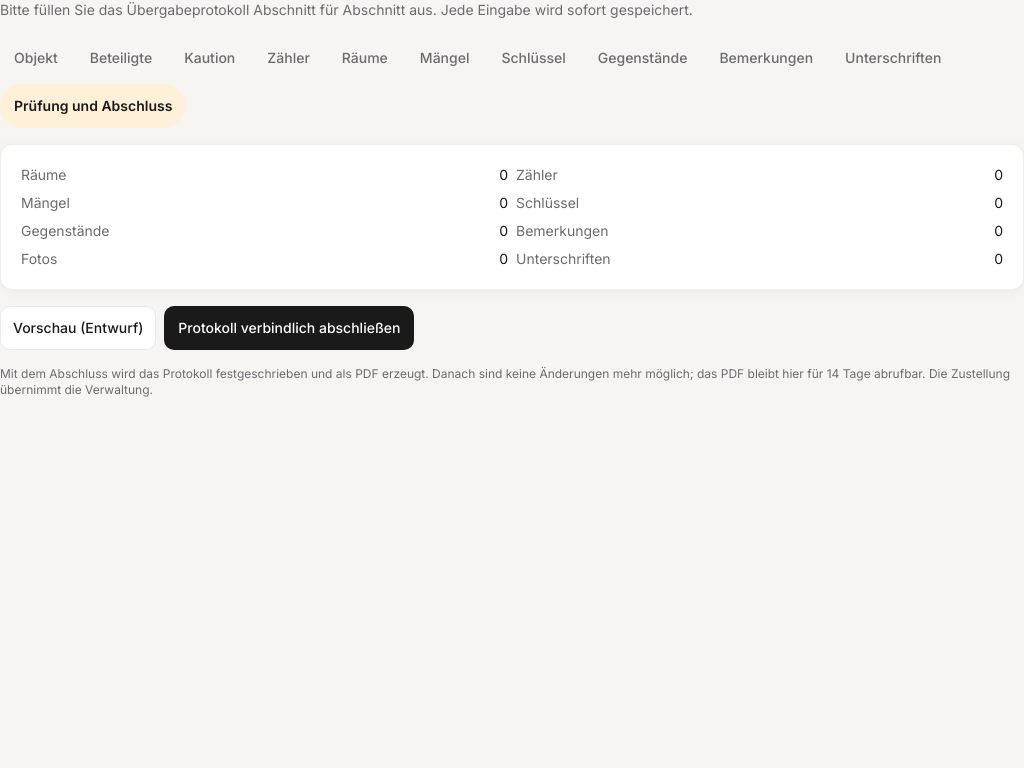
Test: HandoverFill on phone and tablet (M31 WP5) › completes through the ConfirmSheet instead of window.confirm
Click the button "Protokoll verbindlich abschließen" at (289, 328), box [164,306,414,350]
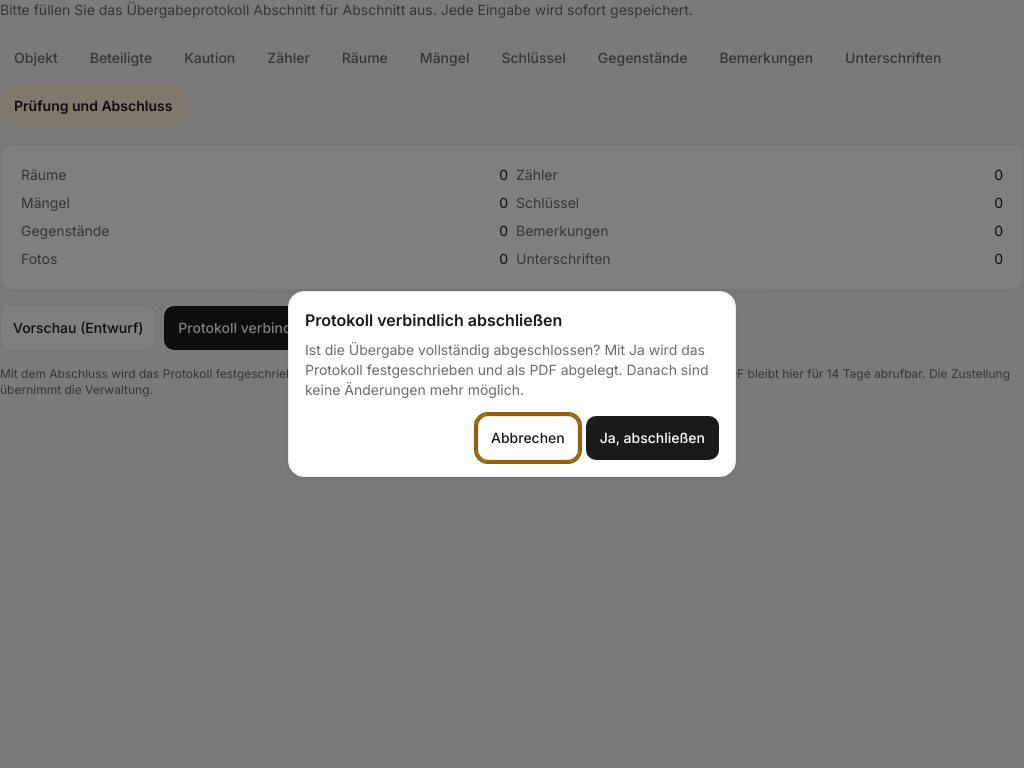
Check: the dialog shows "Ist die Übergabe vollständig abgeschlossen?", box [305,341,708,398]
Click the button "Ja, abschließen" at (652, 438), box [586,416,719,460]
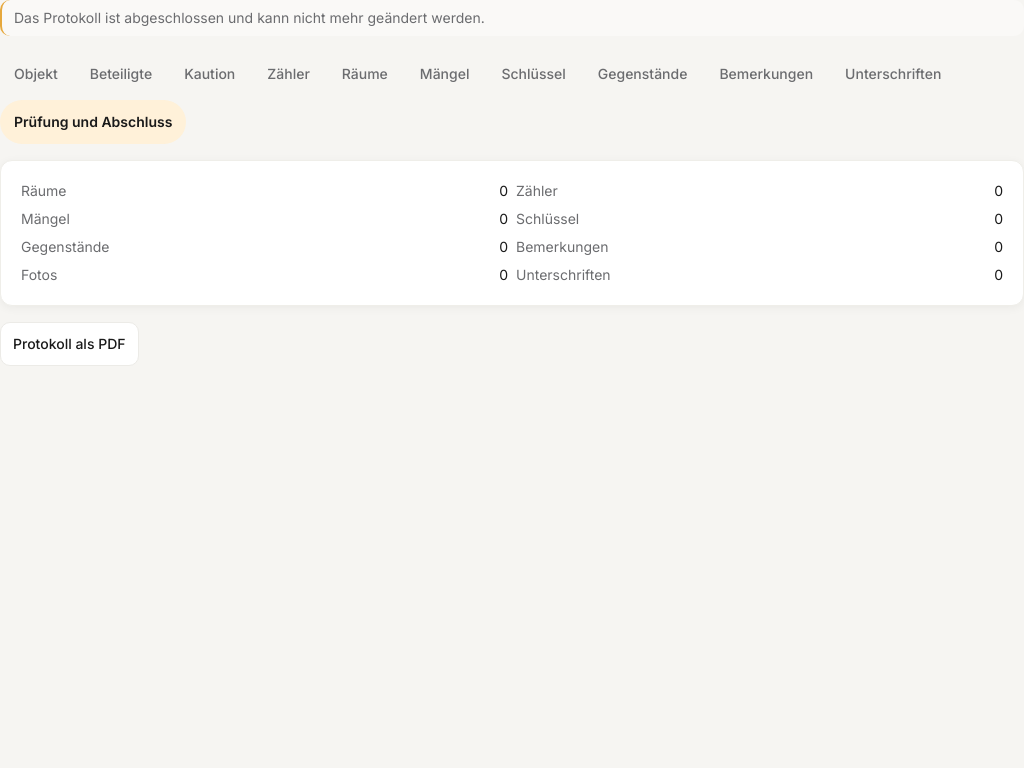
Check: the text "kann nicht mehr geändert werden" is shown, box [14,9,485,26]
